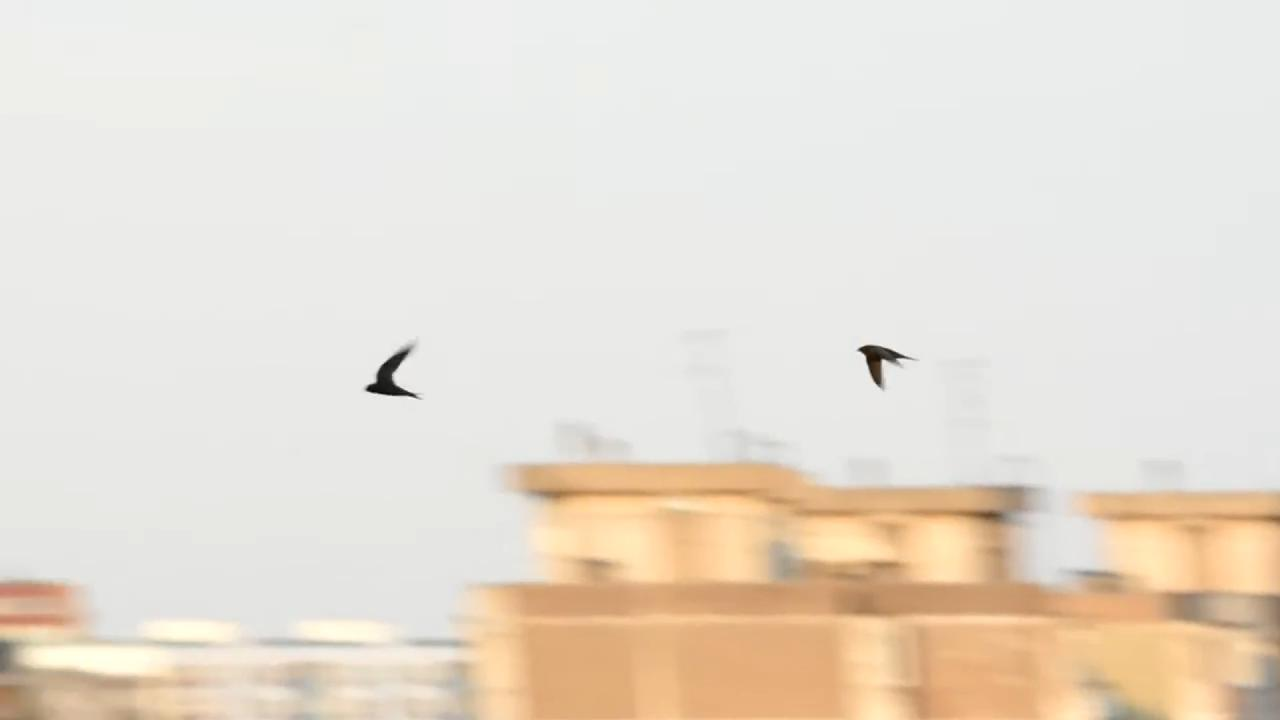Bird: (339, 327, 440, 418), (844, 333, 924, 401)
